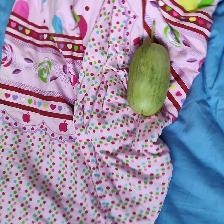gua: (132, 44, 162, 111)
